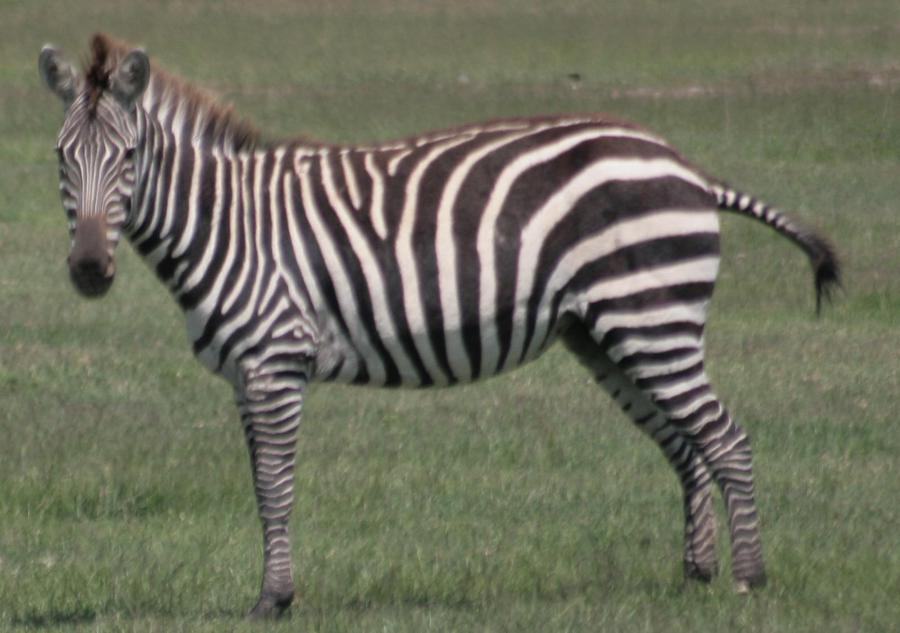zebra_plains: (150, 100, 750, 390)
